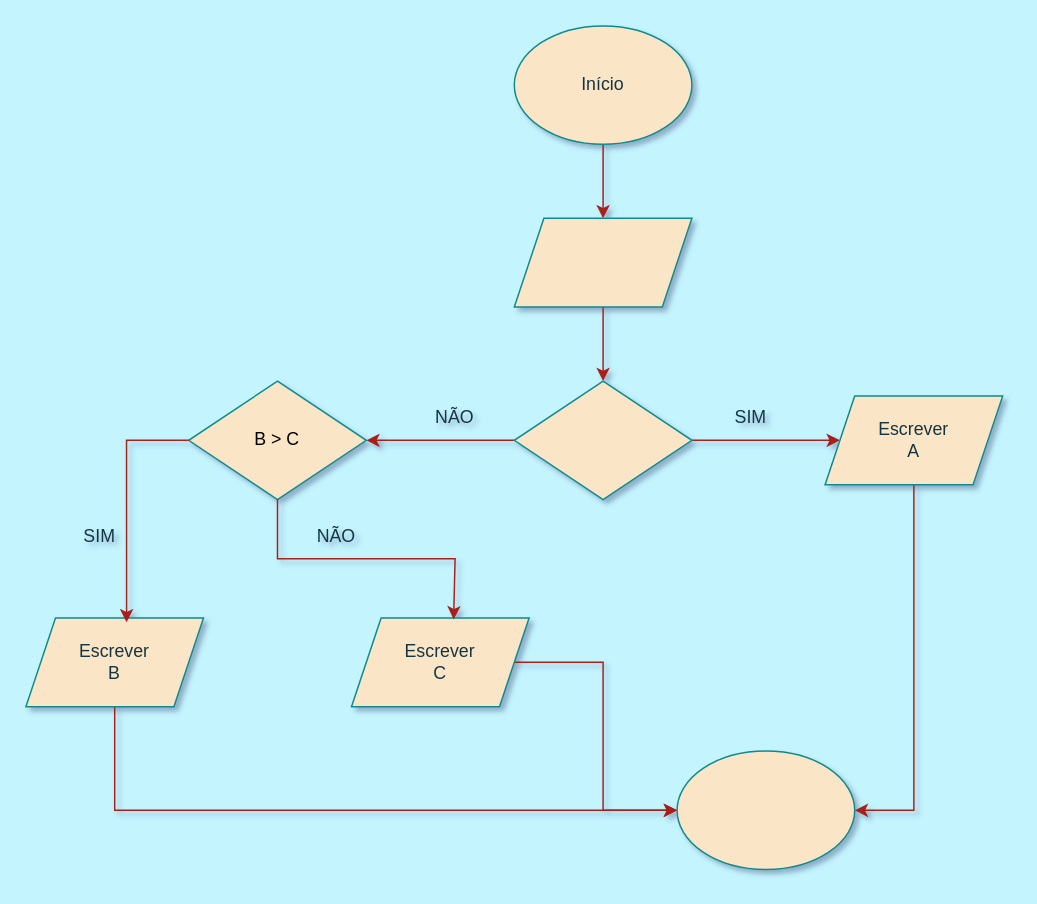
Some shapes in this 1037 by 904 pixel diagram are drawn without their labels. Here are the shapes that lost their labels. From the top down, the centre of each, then its label:
At [602,262]: "Ler A, B, C".
At [602,440]: "A > B AND A > C".
At [765,810]: "Fim".
